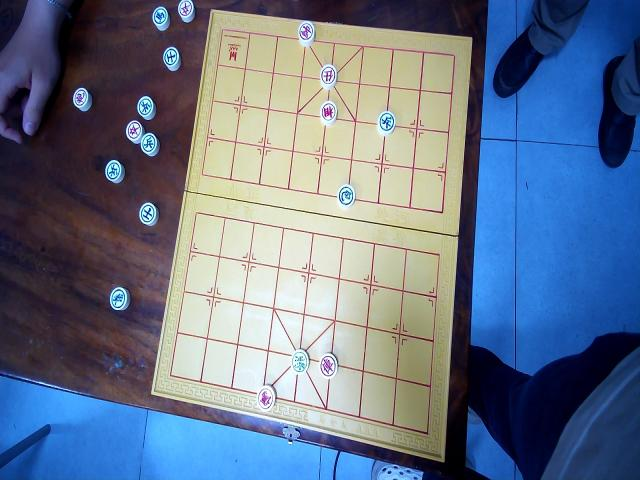piece: (376, 109, 396, 136), (318, 352, 338, 378), (256, 385, 276, 411), (109, 285, 129, 311), (138, 201, 158, 226), (72, 86, 92, 111), (105, 158, 125, 183), (319, 63, 337, 90), (297, 19, 315, 46), (136, 94, 154, 120), (291, 349, 309, 374), (337, 183, 355, 208), (162, 46, 180, 71), (140, 131, 158, 156), (319, 100, 336, 126), (125, 118, 143, 142), (152, 6, 169, 31), (177, 0, 195, 23)
